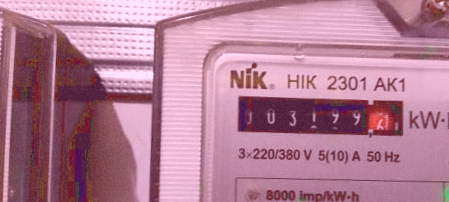0: (241, 105, 253, 126), (264, 104, 276, 124)
1: (308, 104, 318, 123)
3: (286, 107, 297, 126)
6: (375, 115, 385, 131)
9: (329, 105, 340, 125), (350, 106, 361, 125)
screen: (230, 89, 412, 145)
